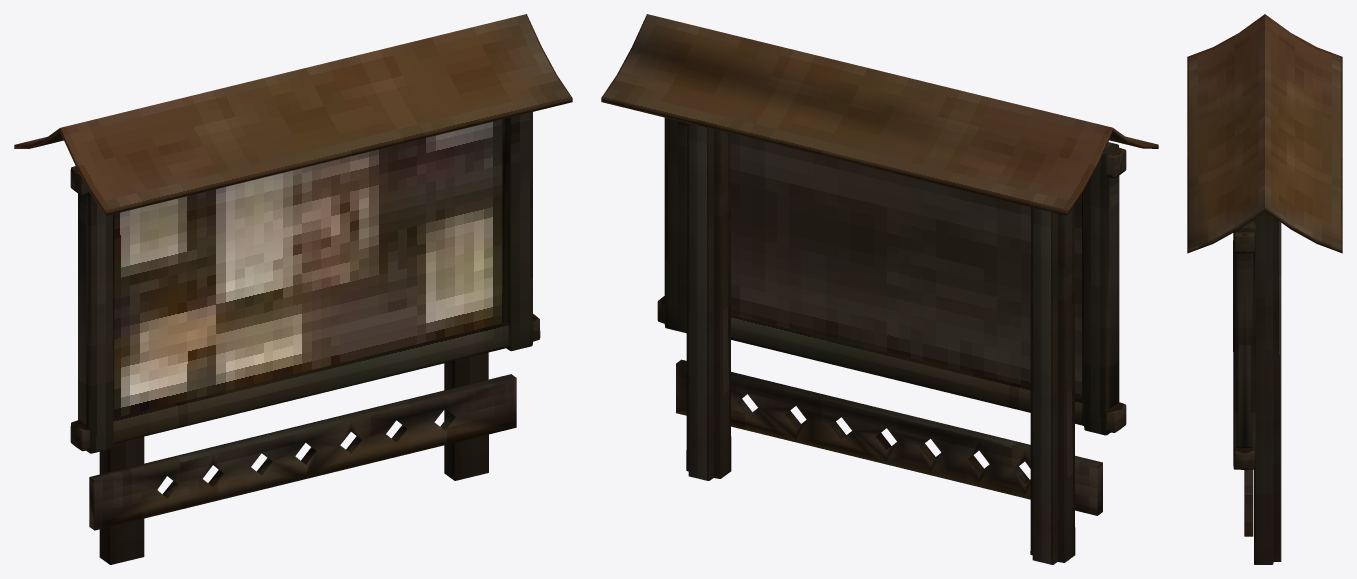
Rendered from bounty_board.glb.
3 renders of one model, left to right at view 1: azimuth 30°, elevation 25°; view 2: azimuth 150°, elevation 25°; view 3: azimuth 270°, elevation 25°, orthographic. The views are drawn at different scales.
Visible parts, largest first — view 1: Object_4; view 2: Object_4; view 3: Object_4.
Part boxes in pixels (box(x1,y1,x2,y2)): Object_4: box(14, 14, 572, 564); Object_4: box(601, 14, 1158, 564); Object_4: box(1187, 14, 1342, 564).
Size of the model in its own units: 3.84 by 3.49 by 1.3.
Materials: 1 (1 with a texture image).
